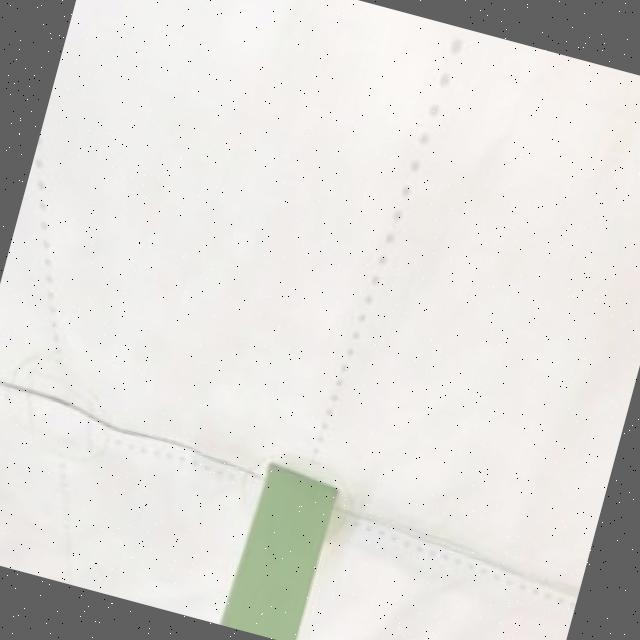greenbox: (213, 457, 351, 640)
